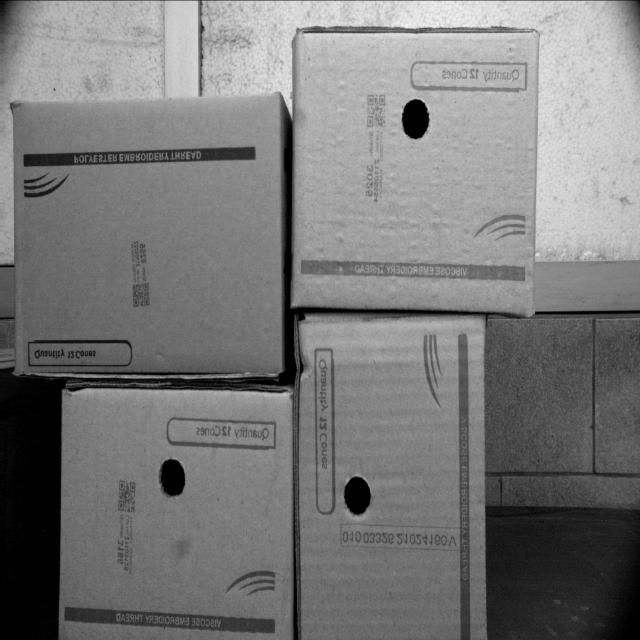cardboxes: (16, 97, 279, 375), (290, 26, 540, 306), (296, 319, 486, 639), (60, 391, 289, 639)
